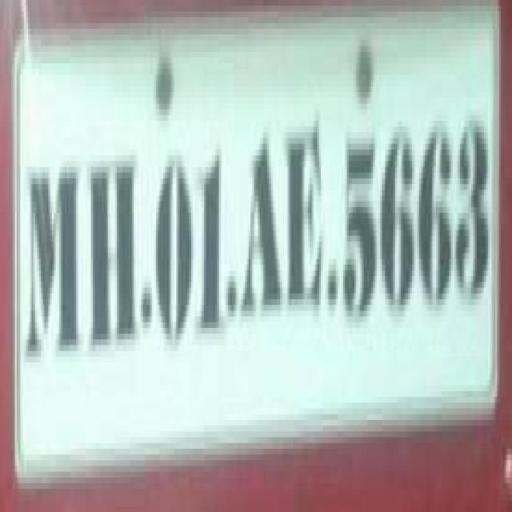number plate: (2, 0, 487, 460)
